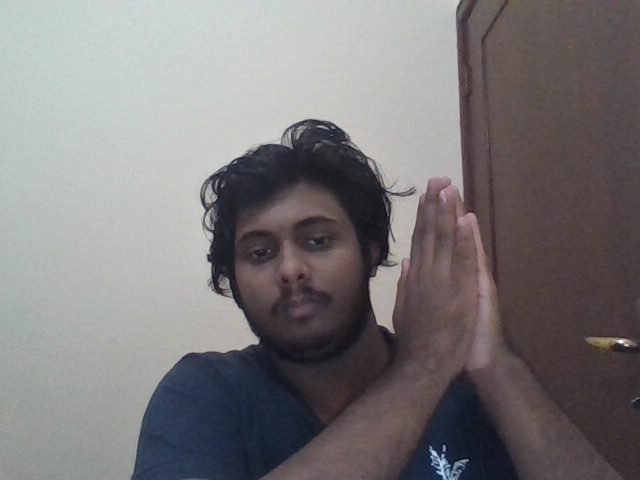namaste: (392, 176, 503, 371)
